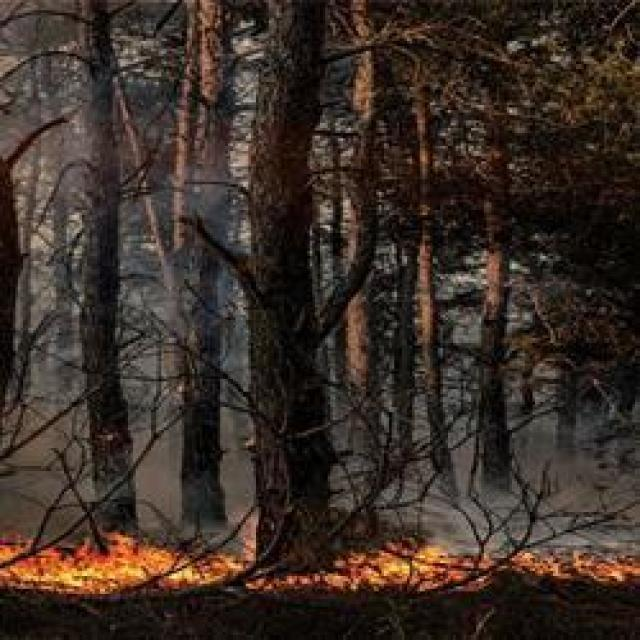Fire: (214, 518, 640, 624), (1, 512, 263, 622)
